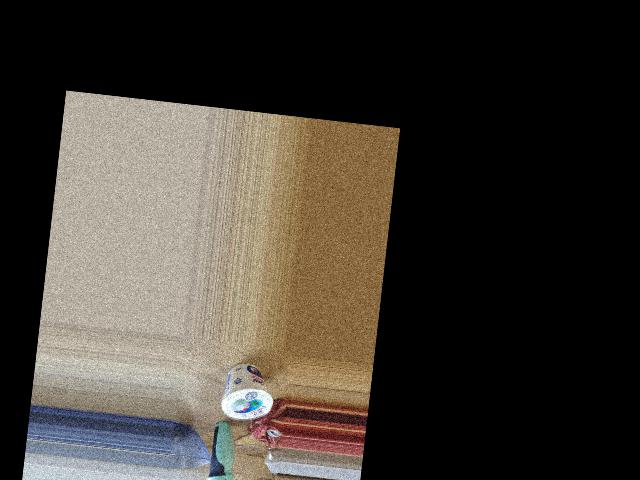cotage: (216, 358, 269, 426)
